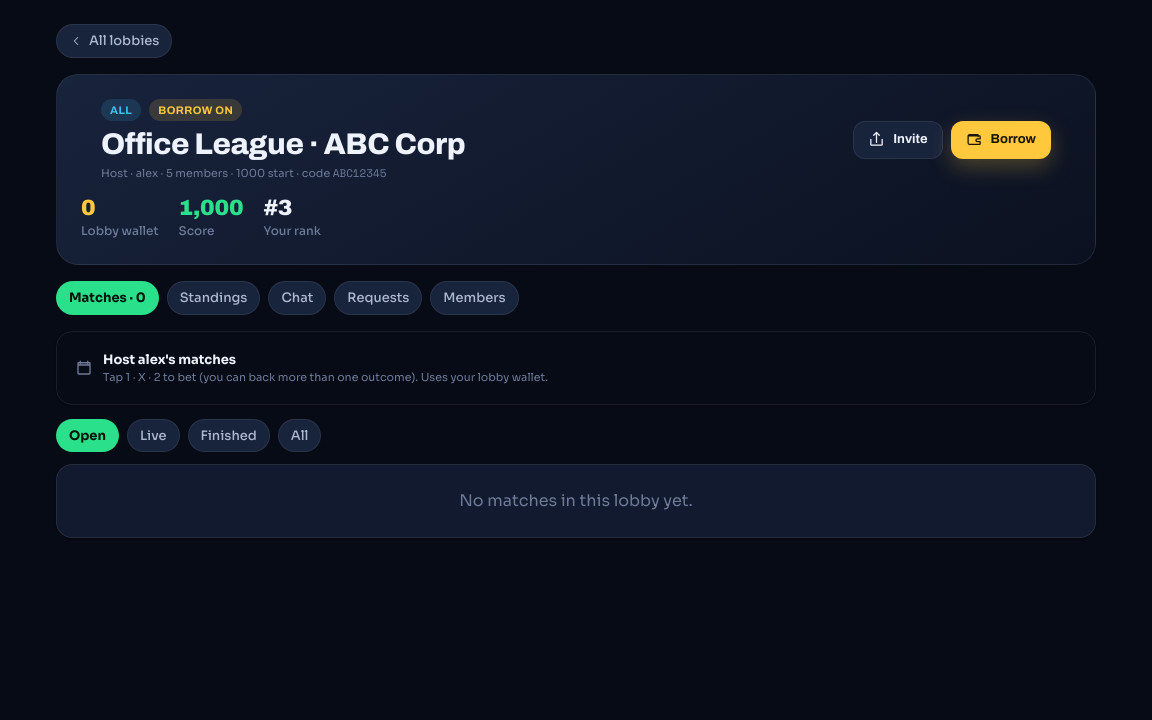
Scenario: LobbyView › Chat tab shows empty-state when no messages
Expected: the heading "Office League · ABC Corp" is shown, [101,129,465,161]
What coordinates should you click on to do the following:
click the button "Chat"
I would click on:
 (297, 298)
Its box is [268,281,326,315].
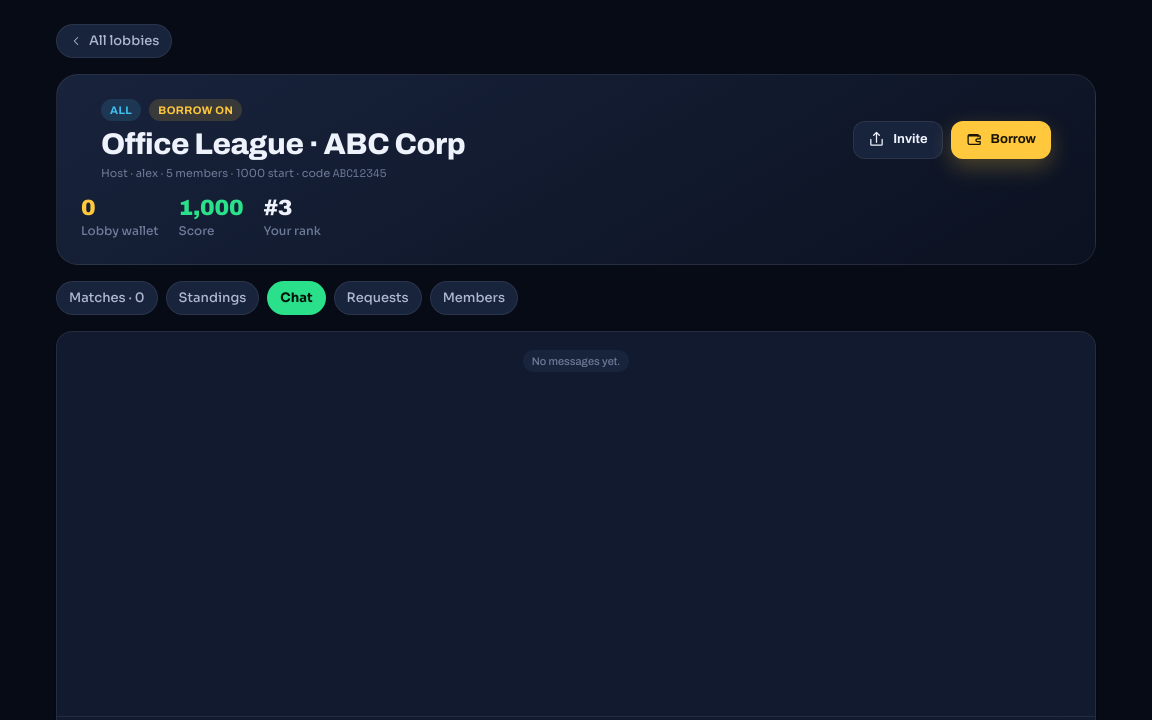
Now the text "No messages yet." is shown, box [523,350,629,372]
